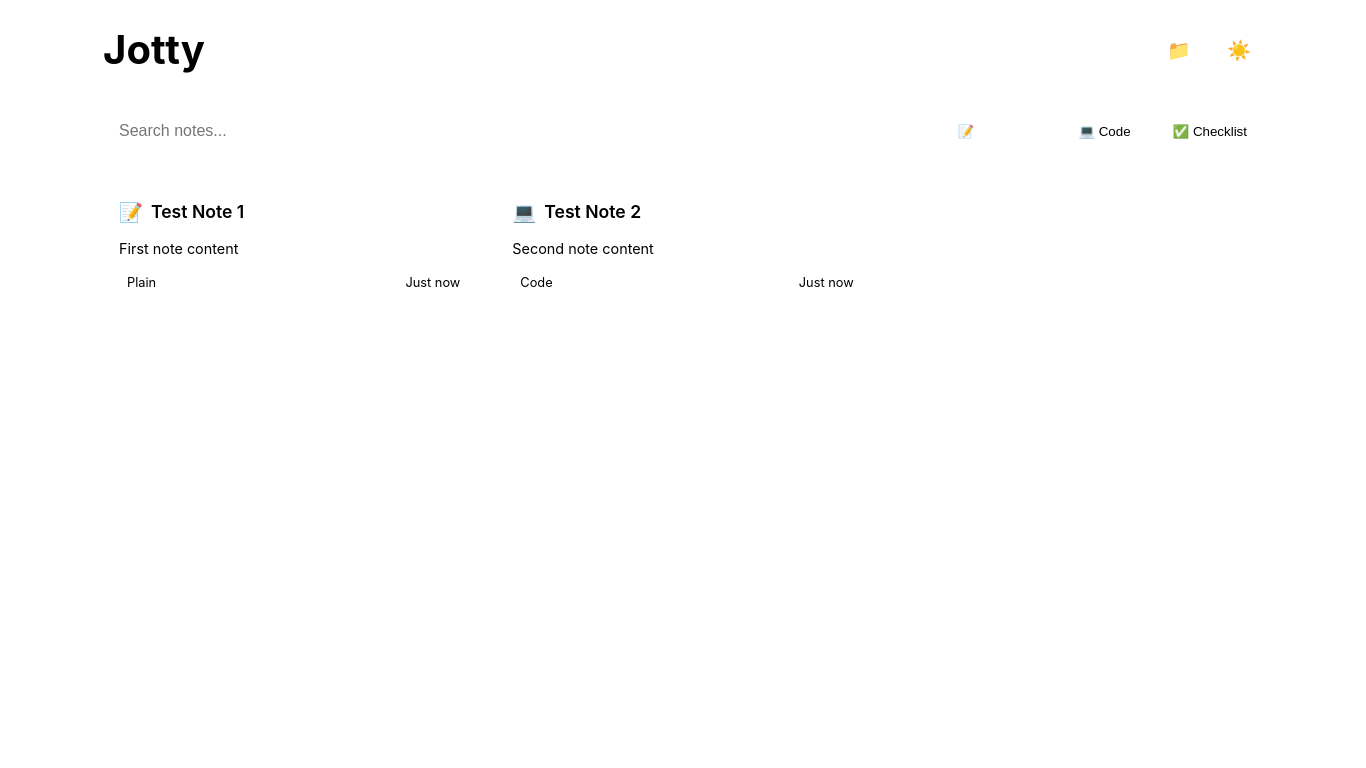
Test case: Notes App Integration Tests › should handle export/import functionality
The width and height of the screenshot is (1366, 768).
Expected: the heading "Test Note 1" is shown, left=151, top=201, right=244, bottom=222
Expected: the heading "Test Note 2" is shown, left=544, top=201, right=641, bottom=222
// Click export/import button
Click the button titled "Export/Import Notes" at (1179, 50), box left=1155, top=30, right=1203, bottom=70
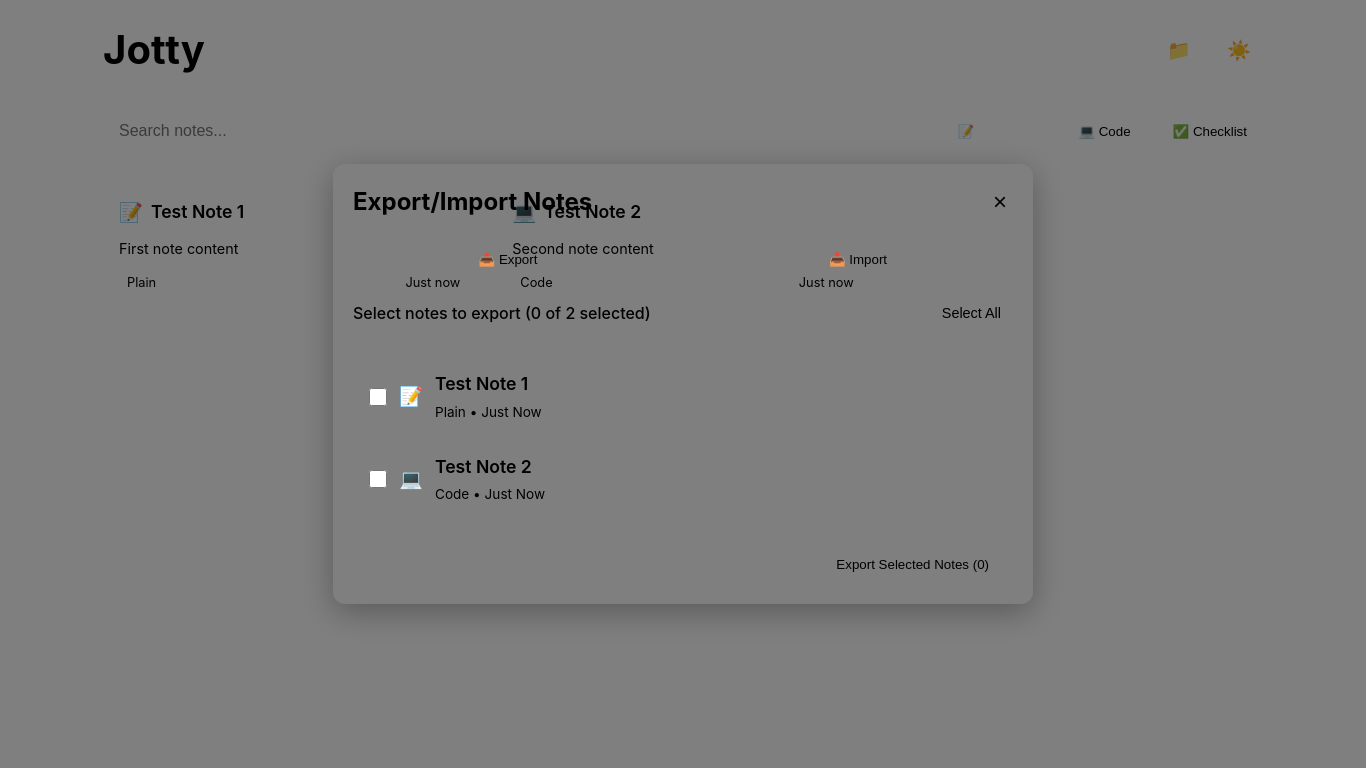
Now the heading "Export/Import Notes" is shown, box left=353, top=184, right=592, bottom=220
Now the button "📤 Export" is shown, box left=333, top=240, right=683, bottom=279
Now the button "📥 Import" is shown, box left=683, top=240, right=1033, bottom=279
// Close modal
Click the button "×" at (1000, 202), box left=987, top=187, right=1013, bottom=217
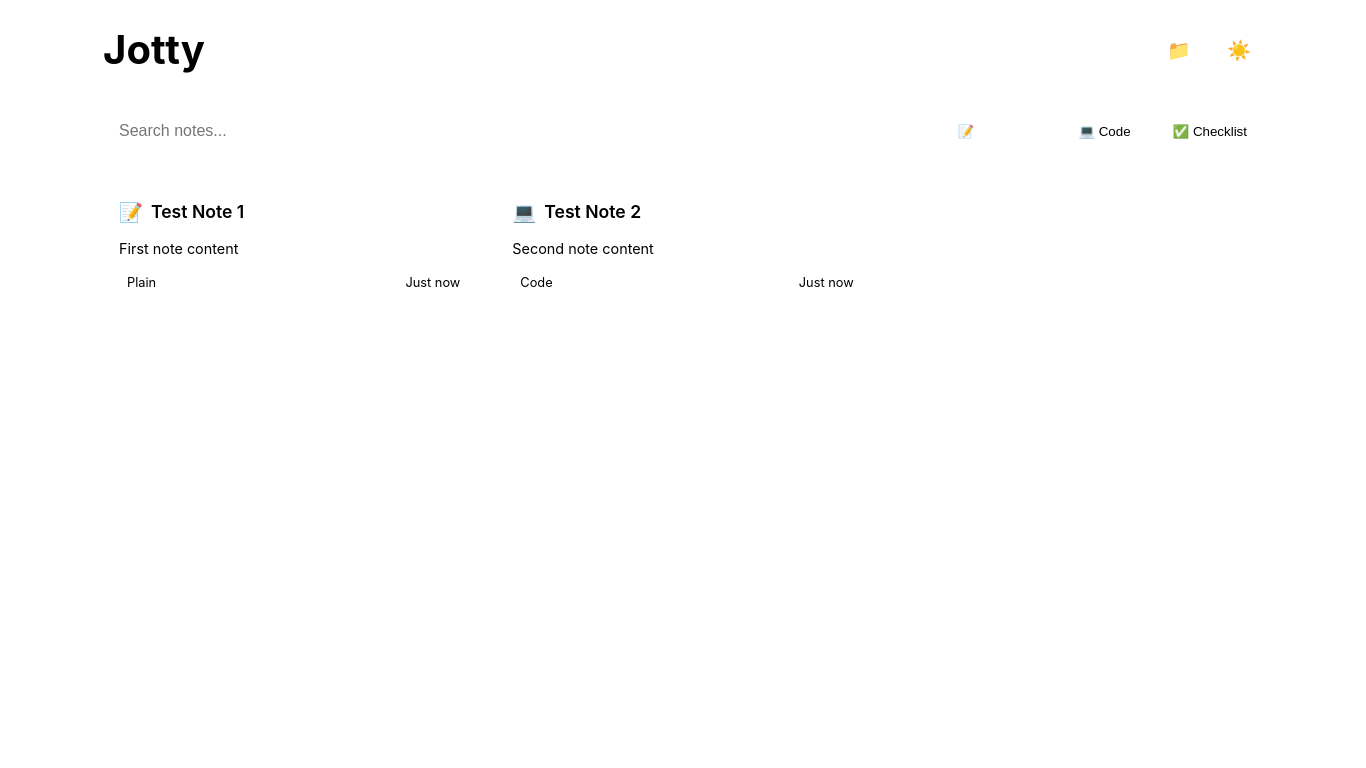
Now the heading "Export/Import Notes" is gone
